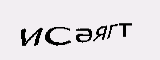Г: (107, 20, 119, 43)
И: (16, 25, 44, 47)
С: (45, 22, 72, 49)
Т: (119, 19, 134, 39)
Я: (93, 23, 109, 44)
Ә: (72, 24, 95, 45)
